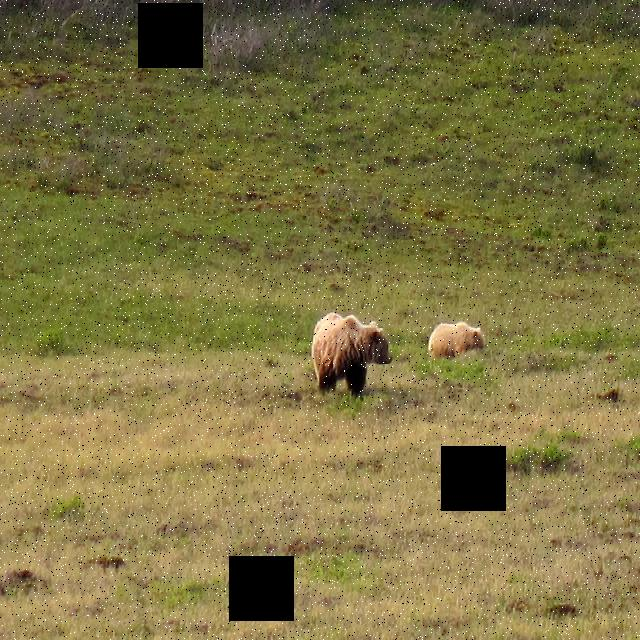Bear: (310, 307, 393, 397), (423, 309, 487, 363)
